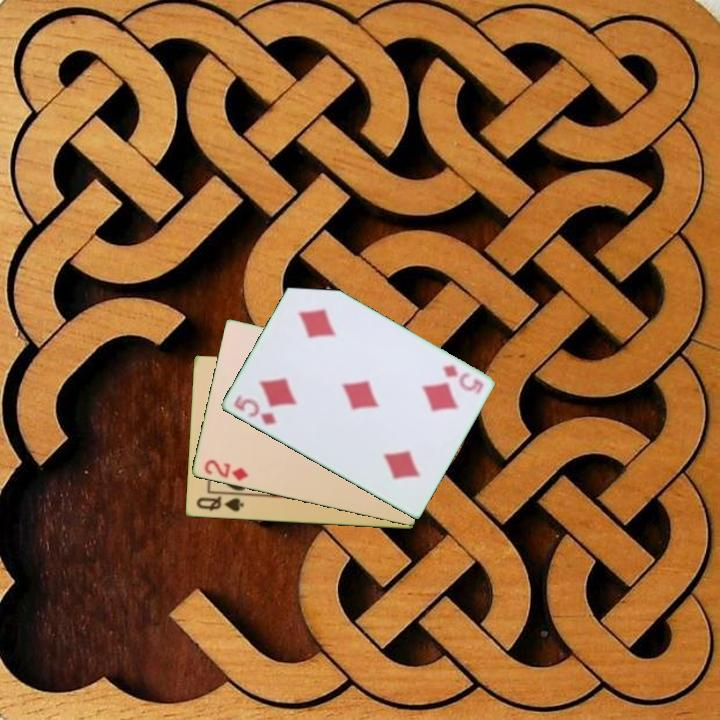2d: (200, 456, 251, 484)
5d: (230, 391, 279, 428), (438, 361, 486, 397)
Qs: (193, 493, 246, 515)
